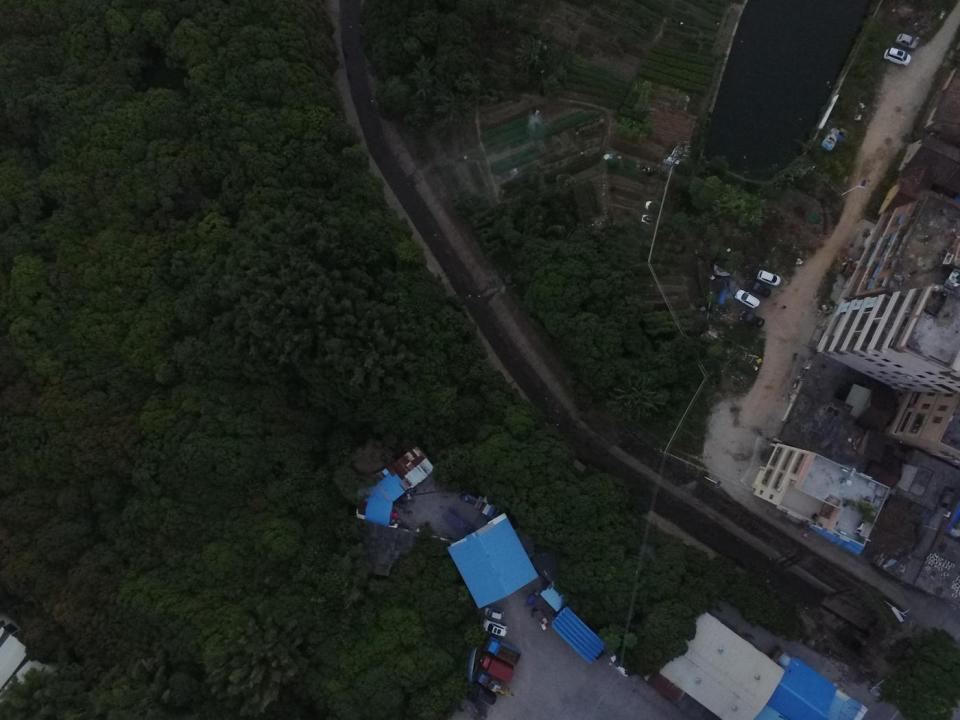car: (470, 681, 498, 705), (884, 45, 912, 67), (734, 288, 760, 309), (745, 278, 772, 298), (481, 620, 508, 637), (757, 270, 782, 288), (738, 311, 765, 327), (894, 33, 919, 50), (483, 606, 505, 619)
truck: (481, 651, 516, 683), (485, 637, 522, 664), (475, 669, 502, 692)
